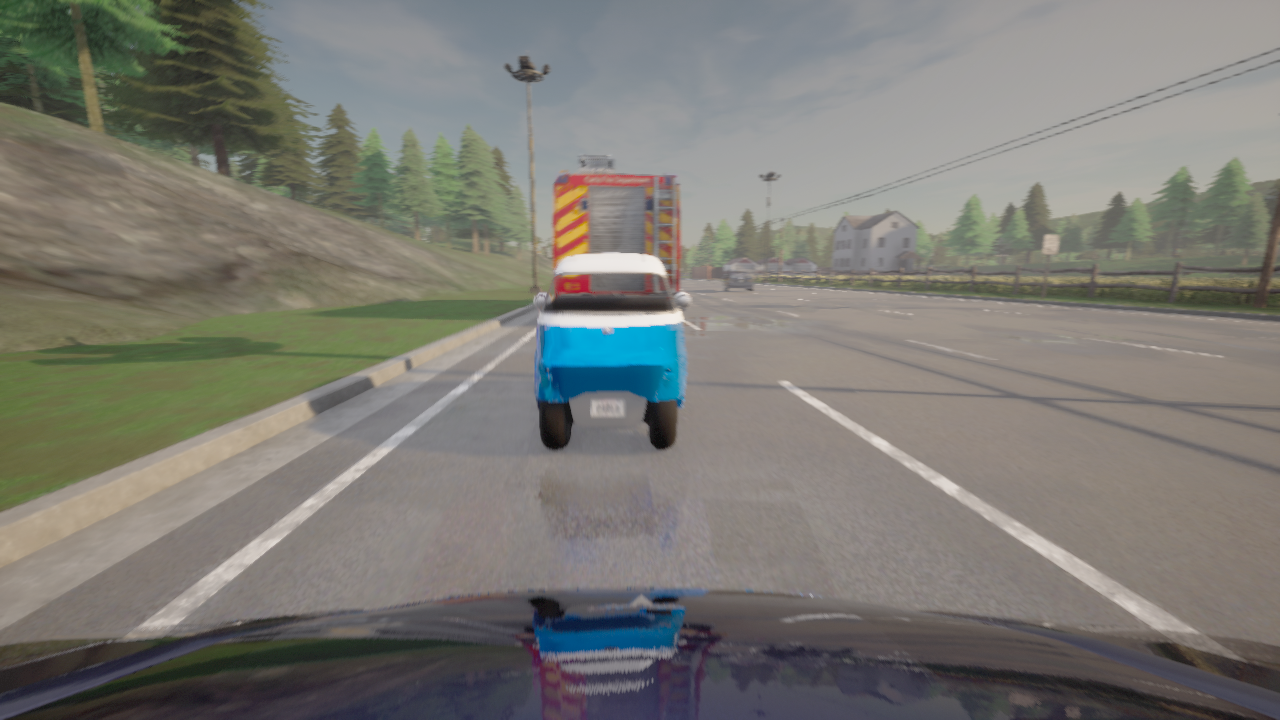cyclist: (0, 588, 1279, 719), (534, 253, 690, 449), (553, 153, 679, 295), (722, 270, 753, 291)
